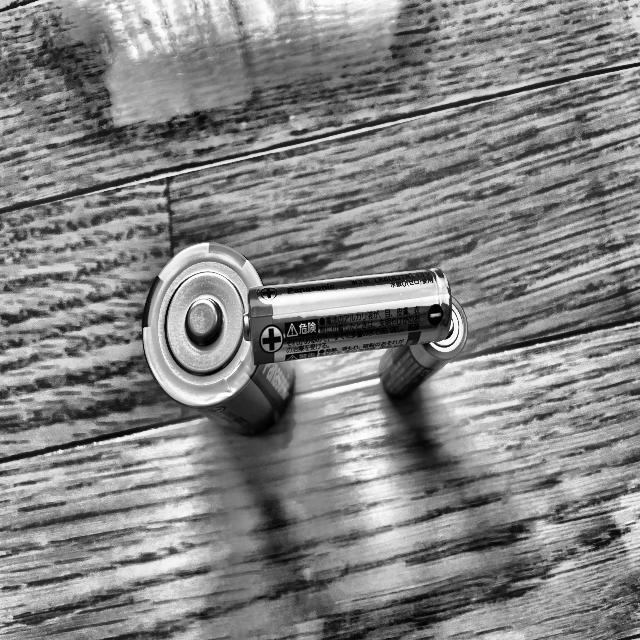drycell: (137, 232, 304, 467), (370, 279, 472, 422)
